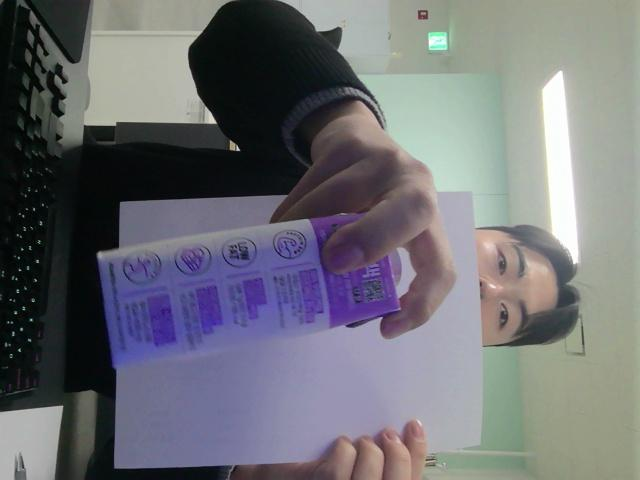milk: (99, 214, 401, 367)
